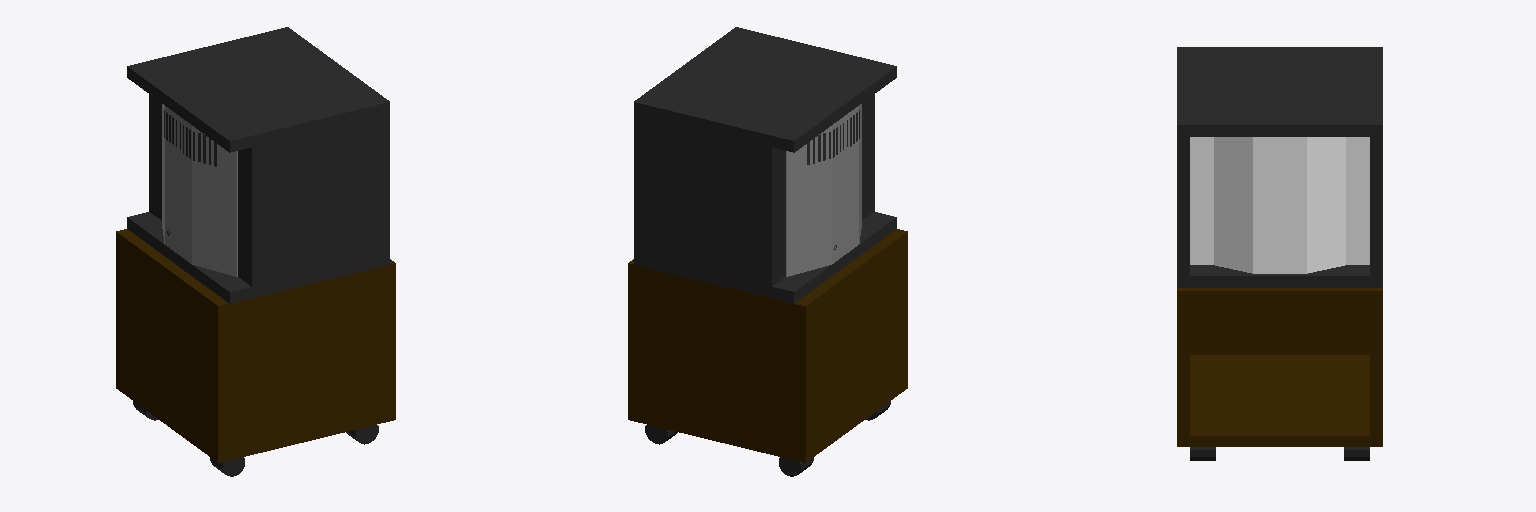
3 renders of one model, left to right at view 1: azimuth 30°, elevation 25°; view 2: azimuth 150°, elevation 25°; view 3: azimuth 270°, elevation 25°, orthographic.
Visible parts, largest first — view 1: cylinder, cube, Wheel 4; view 2: cylinder, cube, Wheel 4; view 3: cylinder, cube, Wheel 4.
Part boxes in pixels (bbox=[...]): cylinder: bbox=[127, 27, 389, 303]; cube: bbox=[116, 229, 395, 462]; Wheel 4: bbox=[133, 401, 378, 476]; cylinder: bbox=[634, 27, 896, 303]; cube: bbox=[628, 229, 907, 462]; Wheel 4: bbox=[645, 401, 890, 476]; cylinder: bbox=[1177, 47, 1382, 287]; cube: bbox=[1177, 288, 1382, 446]; Wheel 4: bbox=[1190, 447, 1369, 460].
Size of the model in its own units: 1 by 1.84 by 1.
3 materials, 3 textured.